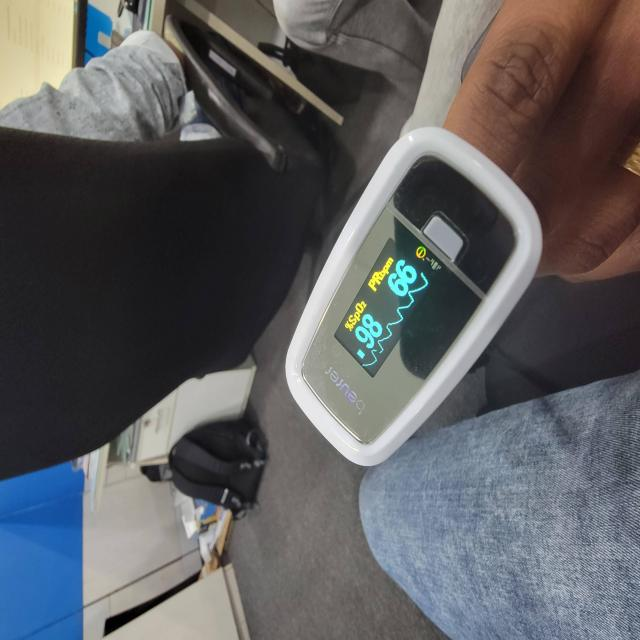spo2: (286, 129, 538, 467)
